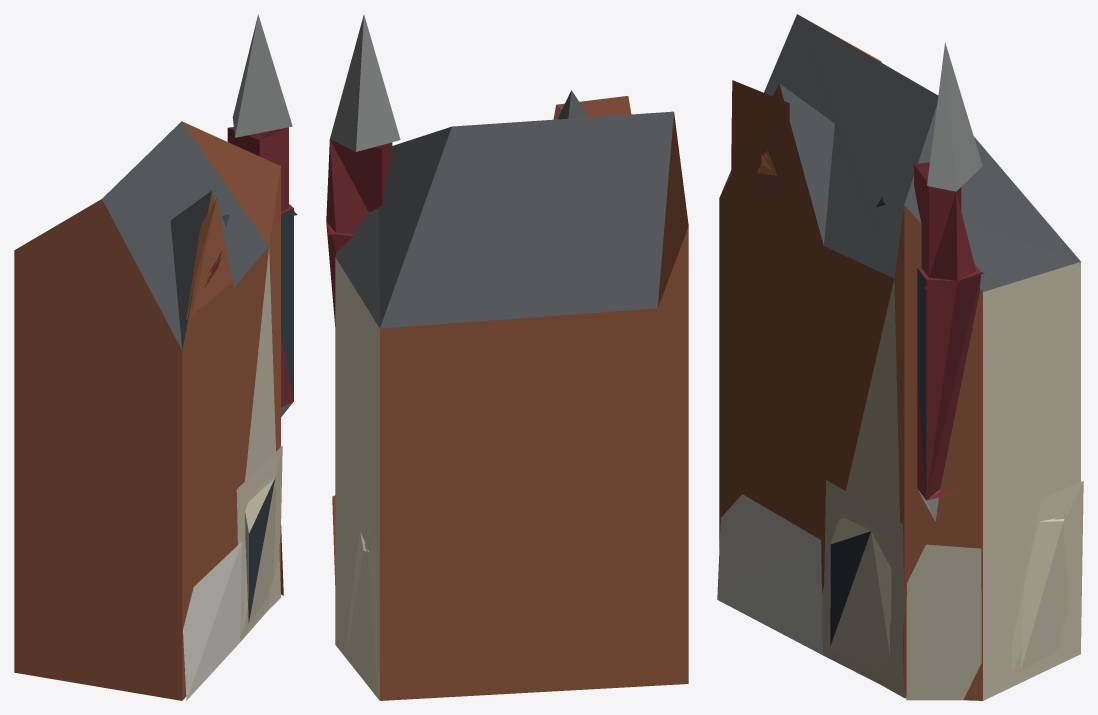
File: leidsestraat-40.lod2.glb
3 renders of one model, left to right at view 1: azimuth 30°, elevation 25°; view 2: azimuth 150°, elevation 25°; view 3: azimuth 270°, elevation 25°, orthographic. The views are drawn at different scales.
Visible parts, largest first — view 1: lod2; view 2: lod2; view 3: lod2.
Part boxes in pixels (x1=…): lod2: x1=14, y1=14, x2=297, y2=700; lod2: x1=326, y1=14, x2=688, y2=700; lod2: x1=717, y1=14, x2=1083, y2=700.
Size of the model in its own units: 10.06 by 18.2 by 9.25.
